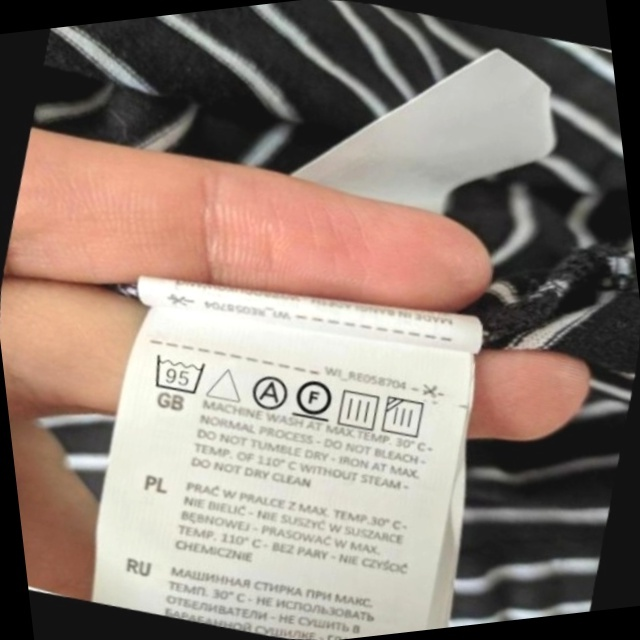95C: (144, 344, 215, 404)
bleach: (201, 356, 251, 411)
drip_dry: (329, 380, 389, 438)
drip_dry_in_shade: (375, 387, 436, 449)
dry_clean: (243, 366, 295, 418)
dry_clean_petrol_only: (286, 368, 343, 429)
